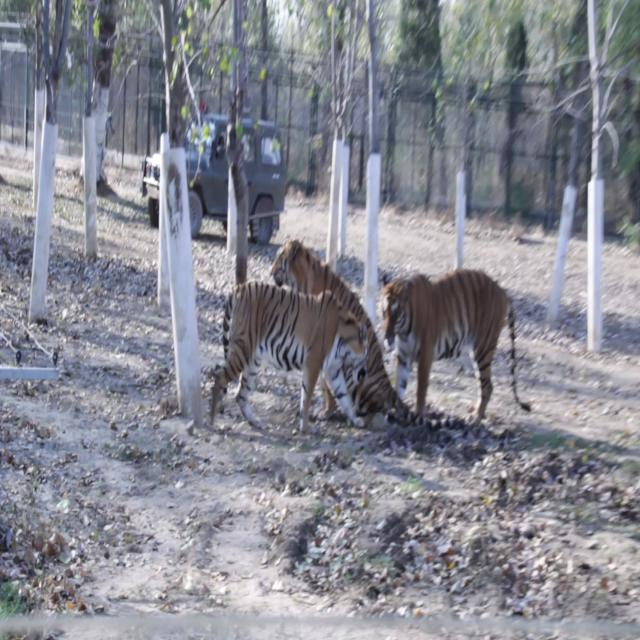Tiger: (203, 266, 385, 461), (378, 258, 538, 434), (272, 231, 389, 429)
